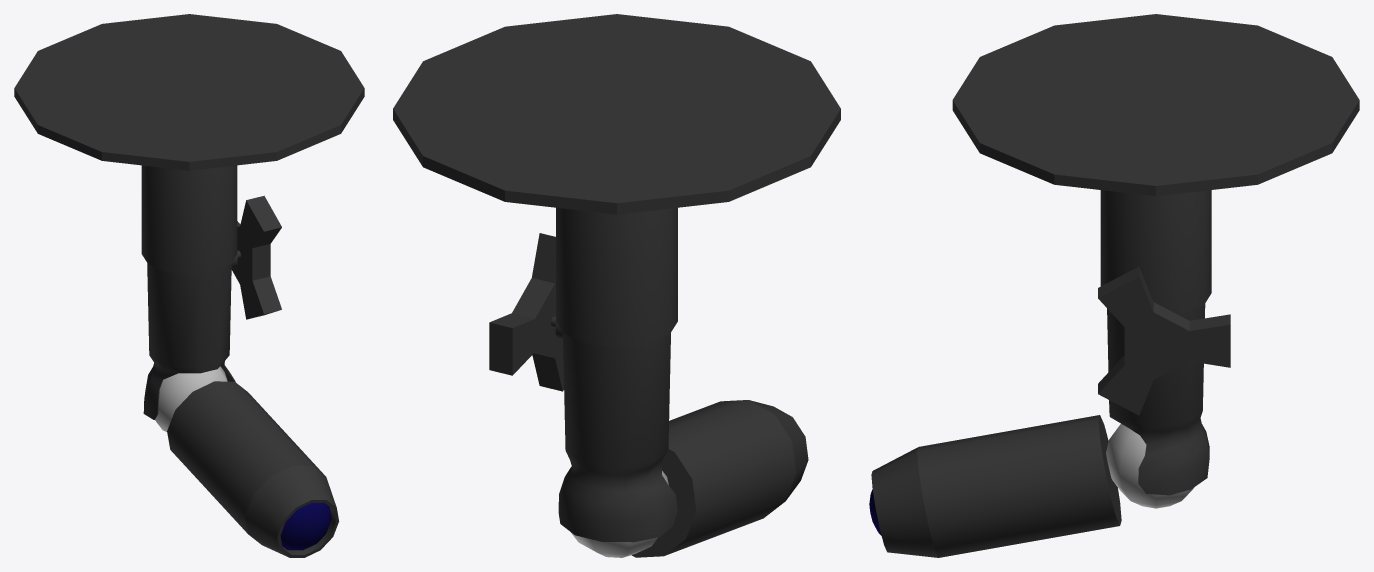
3 renders of one model, left to right at view 1: azimuth 30°, elevation 25°; view 2: azimuth 150°, elevation 25°; view 3: azimuth 270°, elevation 25°, orthographic. The views are drawn at different scales.
Parts seen in each view (by area): view 1: Lo-Body_01; view 2: Lo-Body_01; view 3: Lo-Body_01.
Boxes of the visible parts, bbox=[...] form: Lo-Body_01: bbox=[14, 14, 364, 557]; Lo-Body_01: bbox=[393, 14, 840, 557]; Lo-Body_01: bbox=[869, 14, 1359, 557].
Size of the model in its own units: 0.1209 by 0.1484 by 0.1456.
Materials: 1 (1 with a texture image).
